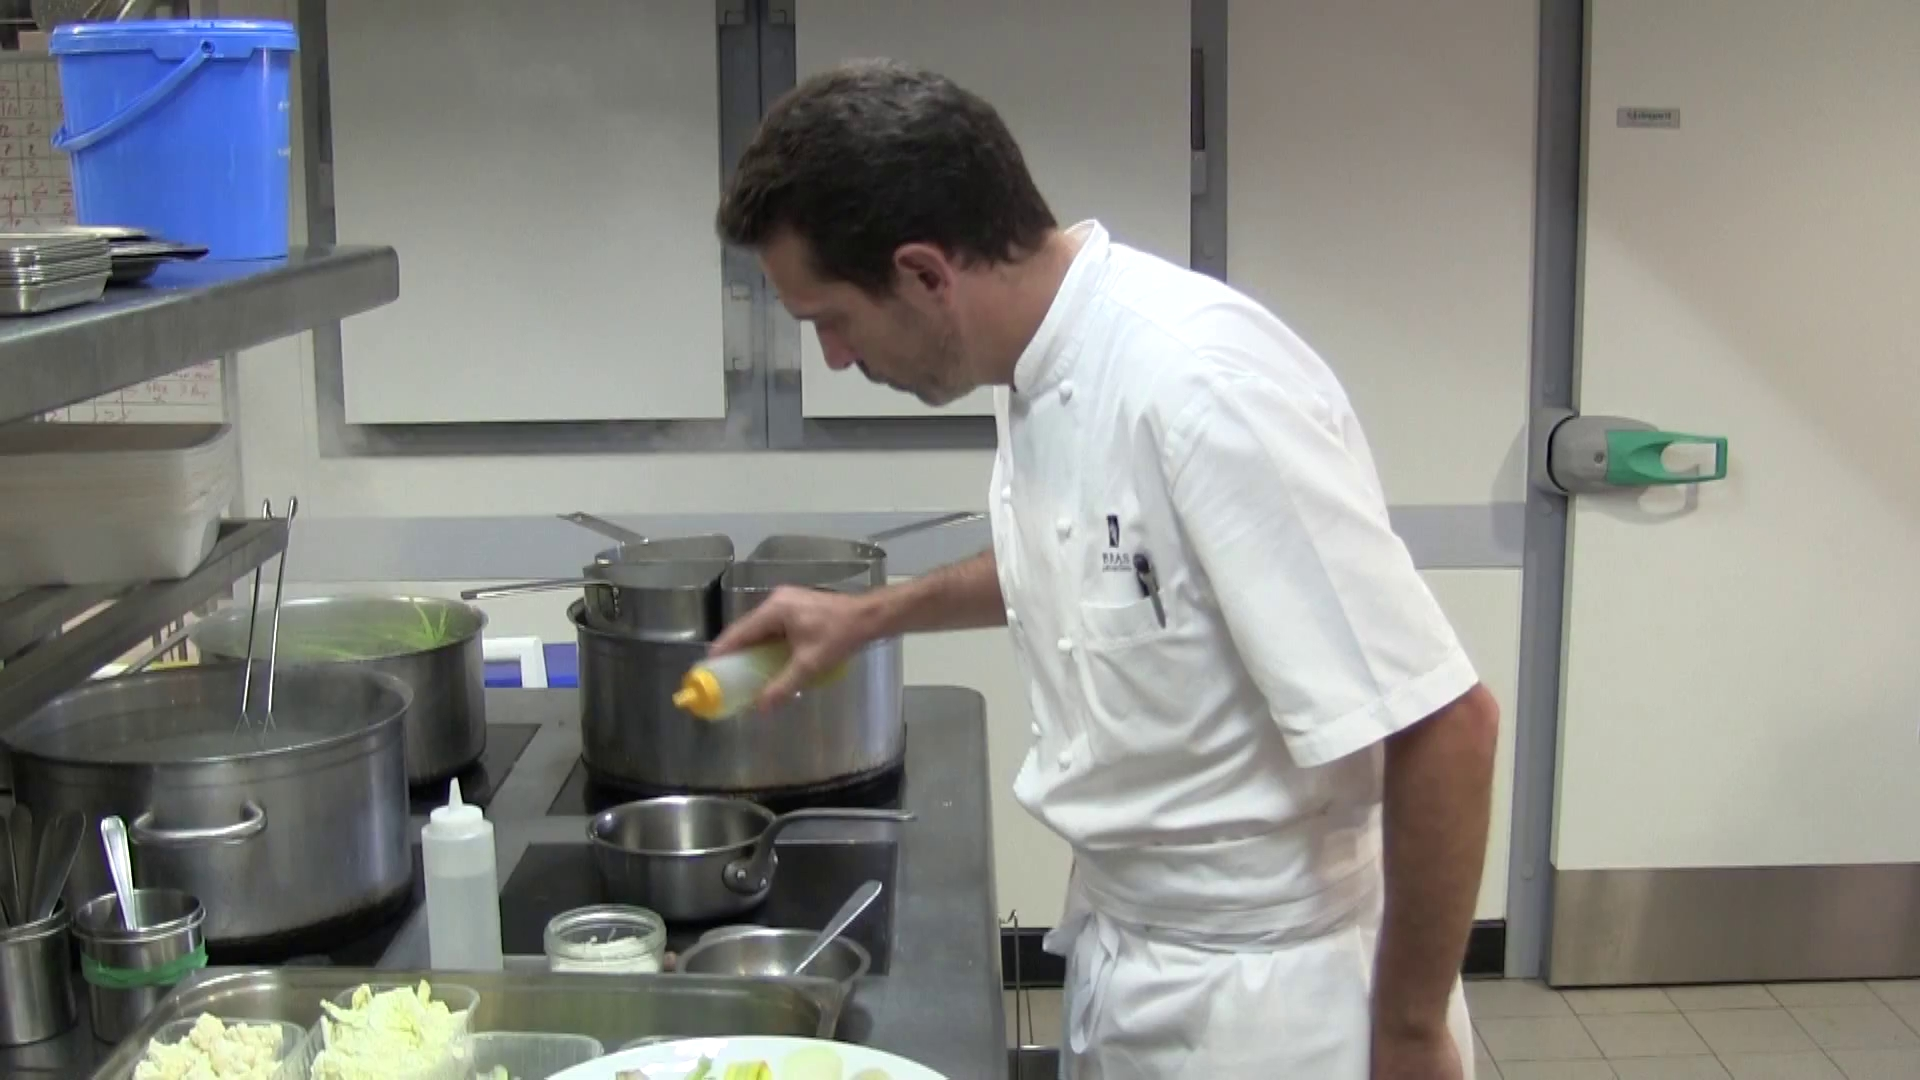person: (671, 60, 1500, 1080)
